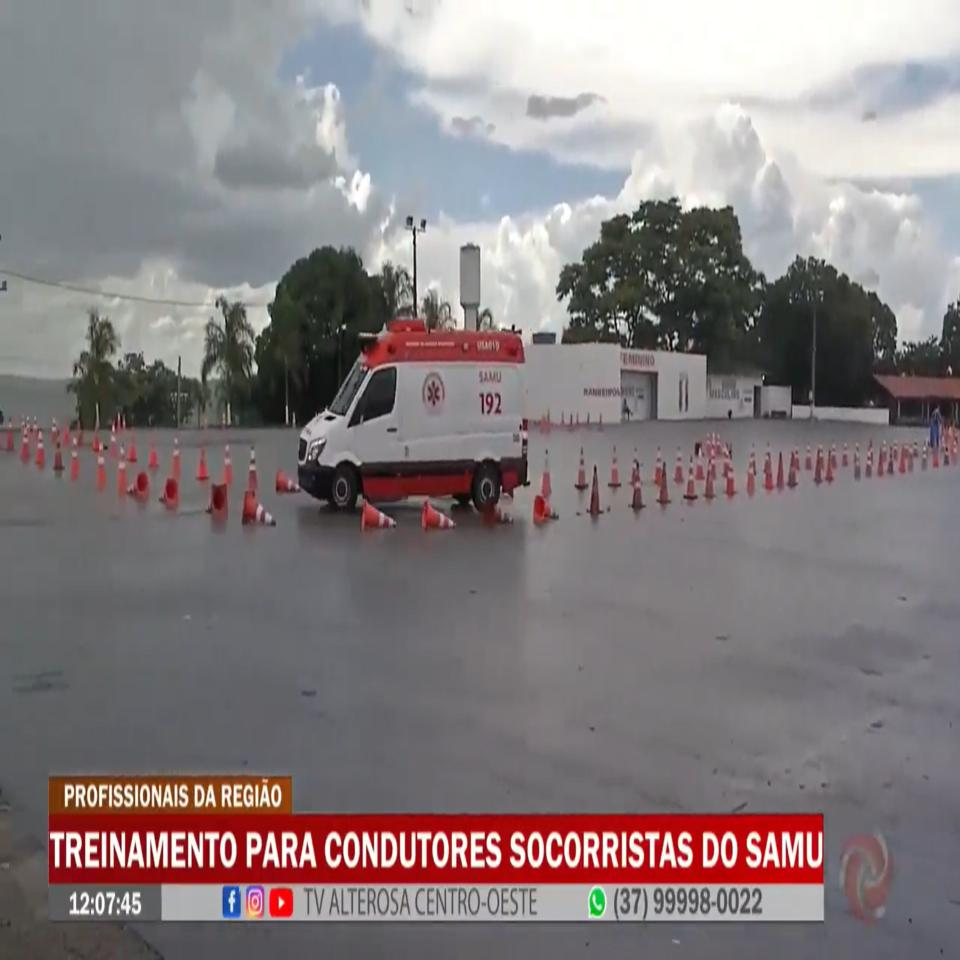bombeiro: (292, 311, 534, 517)
